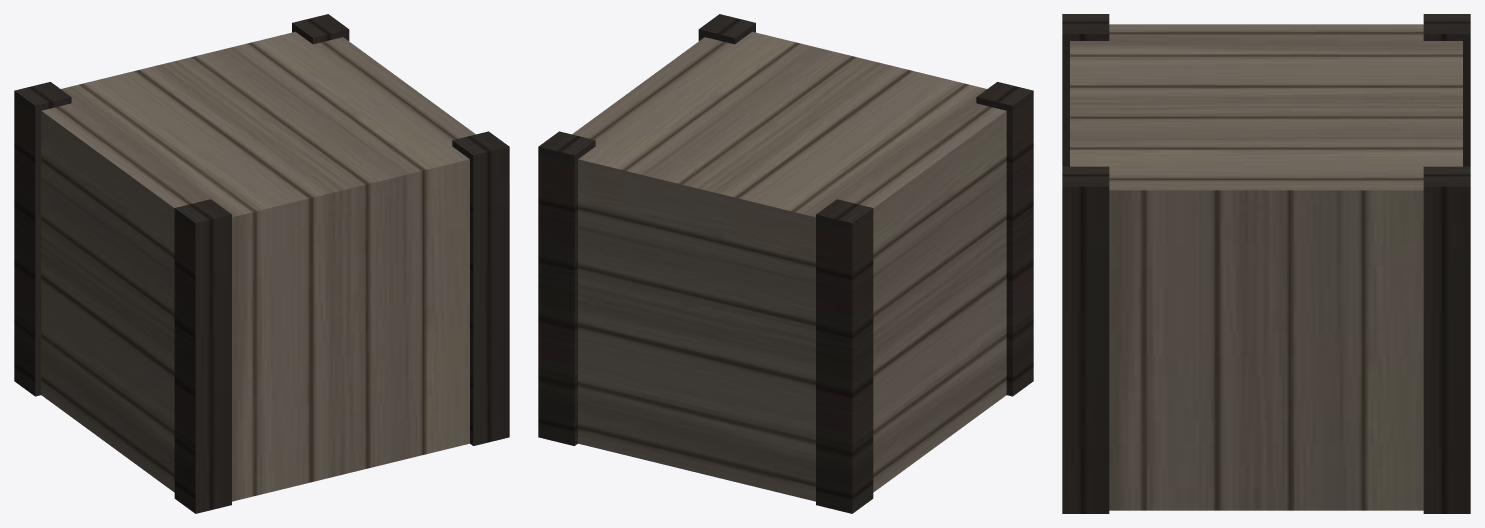
Rendered from crate_small_01.glb.
The picture shows the model from 3 angles, left to right: view 1: azimuth 30°, elevation 25°; view 2: azimuth 150°, elevation 25°; view 3: azimuth 270°, elevation 25°; orthographic projection. The views are drawn at different scales.
Parts seen in each view (by area): view 1: crate_small_01; view 2: crate_small_01; view 3: crate_small_01.
Part boxes in pixels (x1=…): crate_small_01: x1=14, y1=14, x2=509, y2=513; crate_small_01: x1=538, y1=14, x2=1033, y2=513; crate_small_01: x1=1062, y1=14, x2=1470, y2=513.
Size of the model in its own units: 0.52 by 0.46 by 0.52.
2 materials, 2 textured.
